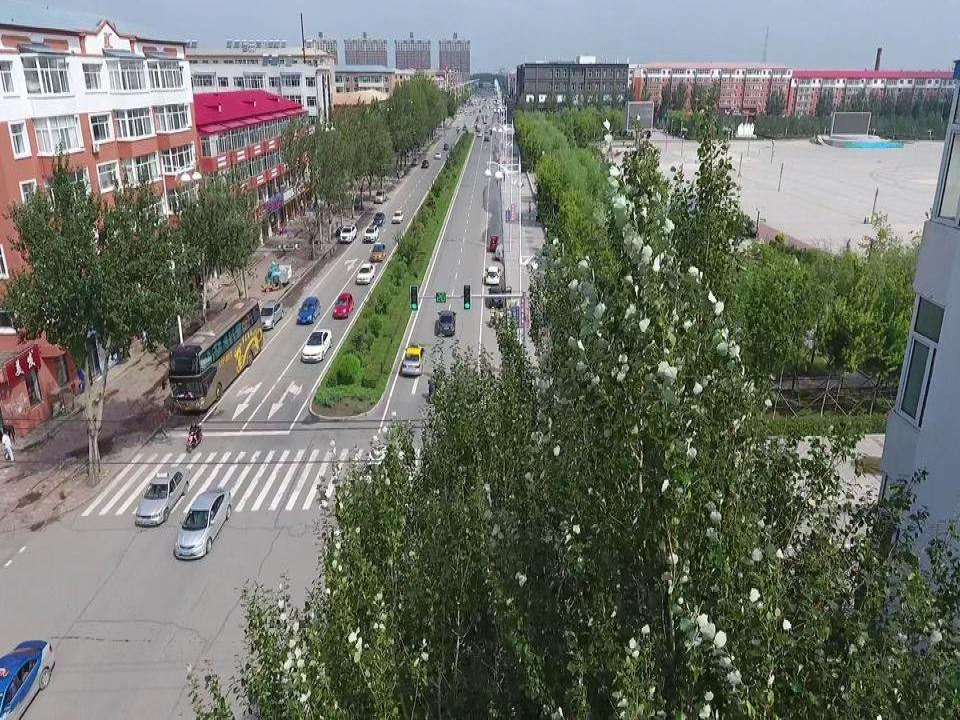bus: (160, 287, 262, 412)
car: (1, 625, 71, 719), (170, 487, 235, 560), (132, 461, 190, 528), (301, 326, 332, 362), (256, 295, 285, 333), (296, 292, 320, 329), (399, 344, 424, 377), (332, 291, 357, 321), (433, 310, 458, 338), (353, 260, 376, 288), (487, 284, 509, 309), (370, 240, 388, 264), (484, 264, 501, 287), (371, 208, 386, 232), (340, 222, 356, 243), (363, 224, 379, 243), (391, 207, 404, 229)
van: (375, 188, 386, 201)
